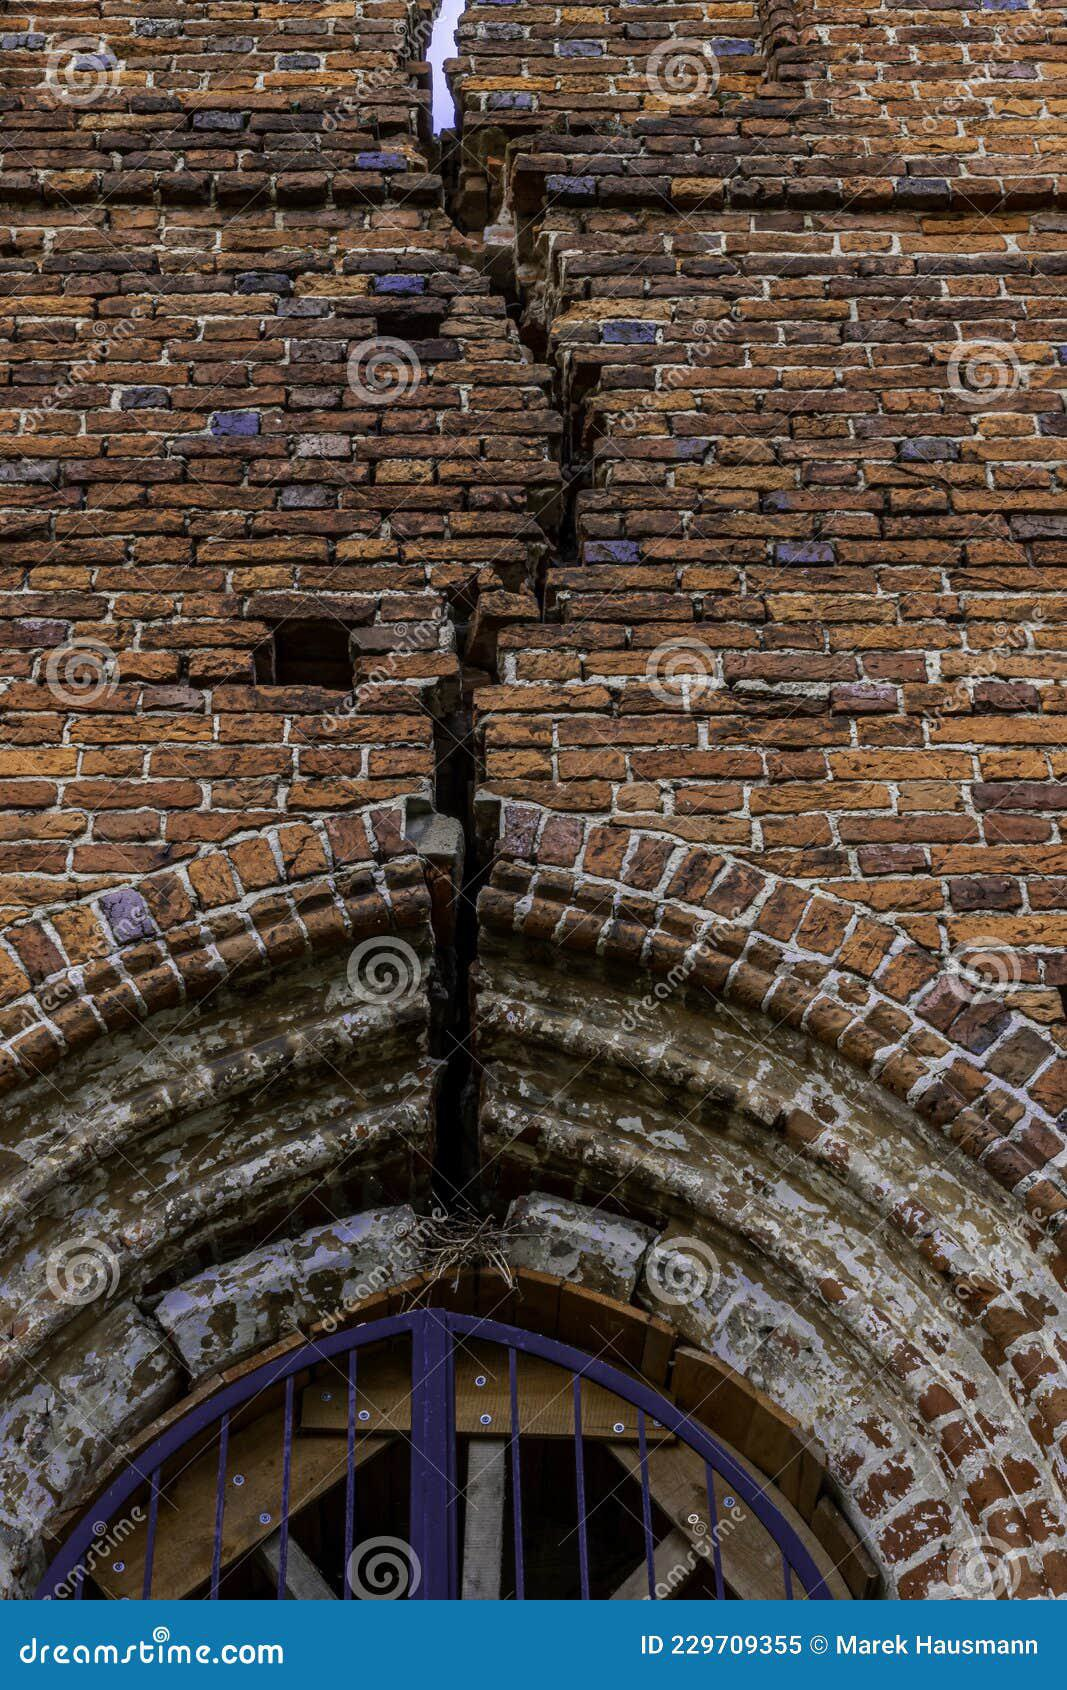crack: (376, 841, 538, 1075), (374, 2, 524, 243), (474, 272, 624, 506), (411, 564, 558, 803)
